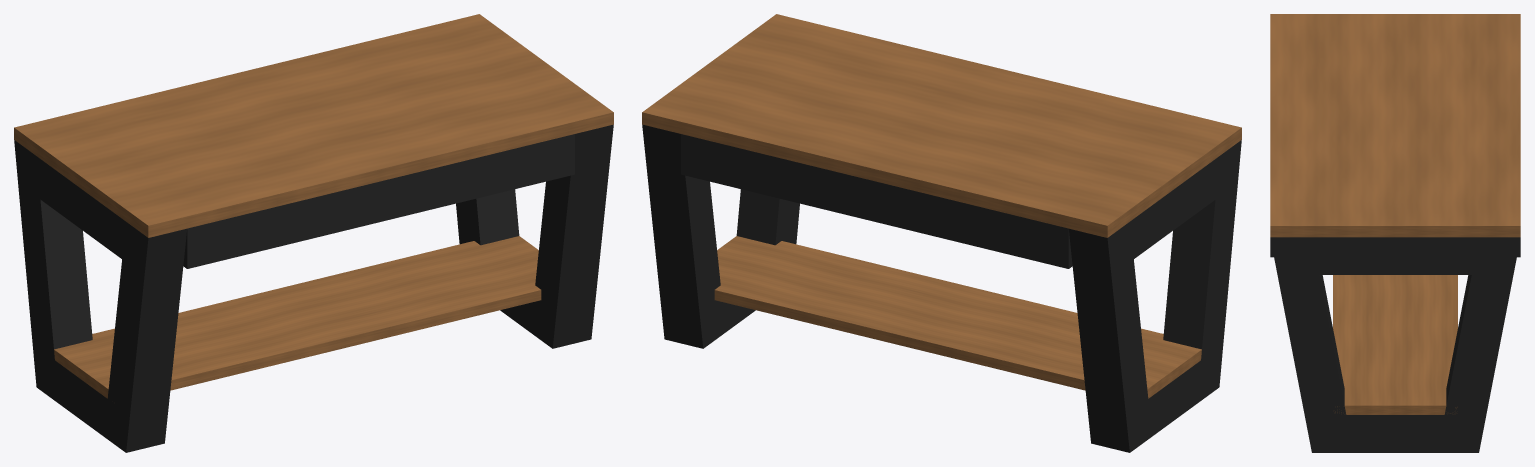
File: mesa-living-nord-estante-roble-negro-10cm.glb
The picture shows the model from 3 angles, left to right: view 1: azimuth 30°, elevation 25°; view 2: azimuth 150°, elevation 25°; view 3: azimuth 270°, elevation 25°; orthographic projection. The views are drawn at different scales.
Visible parts, largest first — view 1: Tapa de madera maciza 120 x 60 x 3 cm, Patas inclinadas con cortes a inglete, Estante inferior de madera de 120 cm (proporción aproximada), Larguero longitudinal superior de hierro 10 x 10 mm, Travesaño superior del trapecio, perfil 10 cm, Travesaño inferior del trapecio, perfil 10 cm; view 2: Tapa de madera maciza 120 x 60 x 3 cm, Patas inclinadas con cortes a inglete, Estante inferior de madera de 120 cm (proporción aproximada), Larguero longitudinal superior de hierro 10 x 10 mm, Travesaño superior del trapecio, perfil 10 cm, Travesaño inferior del trapecio, perfil 10 cm (×2); view 3: Tapa de madera maciza 120 x 60 x 3 cm, Patas inclinadas con cortes a inglete, Estante inferior de madera de 120 cm (proporción aproximada), Travesaño superior del trapecio, perfil 10 cm, Travesaño inferior del trapecio, perfil 10 cm.
Part boxes in pixels (x1,y1,x2,y2): Tapa de madera maciza 120 x 60 x 3 cm: [14, 14, 613, 237]; Patas inclinadas con cortes a inglete: [14, 124, 613, 452]; Estante inferior de madera de 120 cm (proporción aproximada): [54, 236, 541, 398]; Larguero longitudinal superior de hierro 10 x 10 mm: [183, 134, 574, 268]; Travesaño superior del trapecio, perfil 10 cm: [36, 156, 137, 269]; Travesaño inferior del trapecio, perfil 10 cm: [55, 360, 114, 438]; Tapa de madera maciza 120 x 60 x 3 cm: [642, 14, 1241, 237]; Patas inclinadas con cortes a inglete: [642, 124, 1241, 452]; Estante inferior de madera de 120 cm (proporción aproximada): [714, 236, 1201, 398]; Larguero longitudinal superior de hierro 10 x 10 mm: [681, 134, 1072, 268]; Travesaño superior del trapecio, perfil 10 cm: [1118, 149, 1230, 268]; Travesaño inferior del trapecio, perfil 10 cm (×2): [715, 300, 1200, 436]; Tapa de madera maciza 120 x 60 x 3 cm: [1270, 14, 1520, 237]; Patas inclinadas con cortes a inglete: [1270, 237, 1520, 452]; Estante inferior de madera de 120 cm (proporción aproximada): [1333, 275, 1457, 414]; Travesaño superior del trapecio, perfil 10 cm: [1291, 237, 1499, 274]; Travesaño inferior del trapecio, perfil 10 cm: [1333, 415, 1457, 452].
Size of the model in its own units: 1.2 by 0.6 by 0.6.
Materials: 2 (1 with a texture image).
